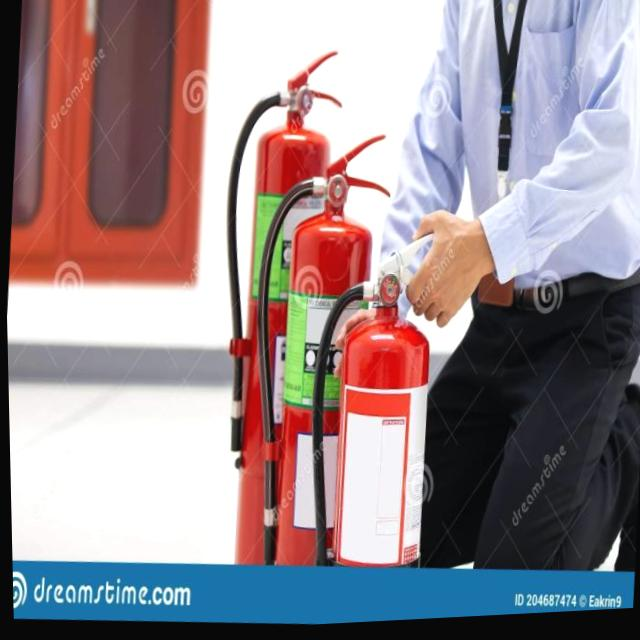FireExtinguisher: (196, 44, 354, 572), (231, 127, 402, 576), (294, 223, 458, 578)
